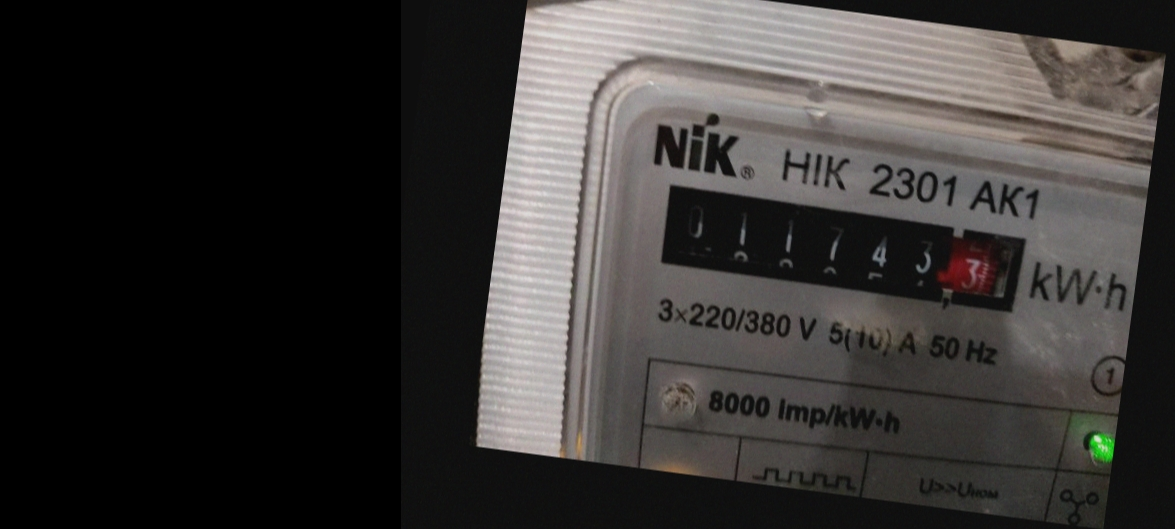0: (683, 203, 710, 244), (732, 208, 755, 251)
1: (779, 215, 800, 258)
3: (912, 236, 937, 281), (958, 255, 983, 296)
4: (867, 230, 893, 273)
7: (821, 221, 849, 268)
screen: (639, 171, 1037, 328)
